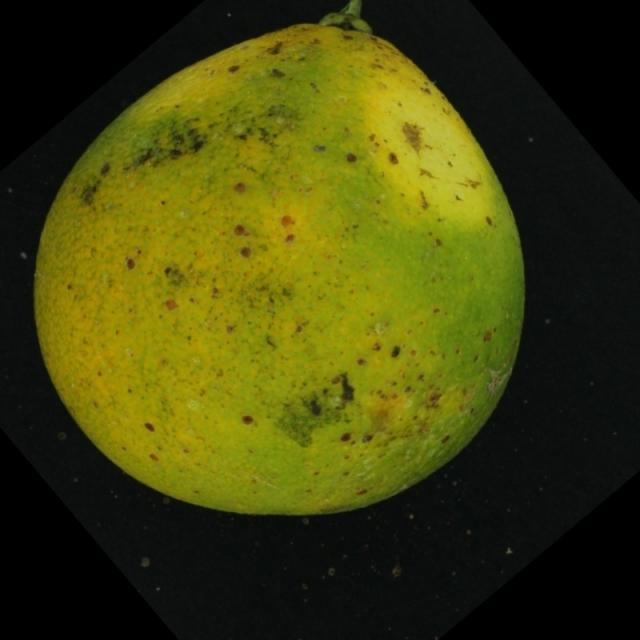grenning: (28, 12, 550, 528)
